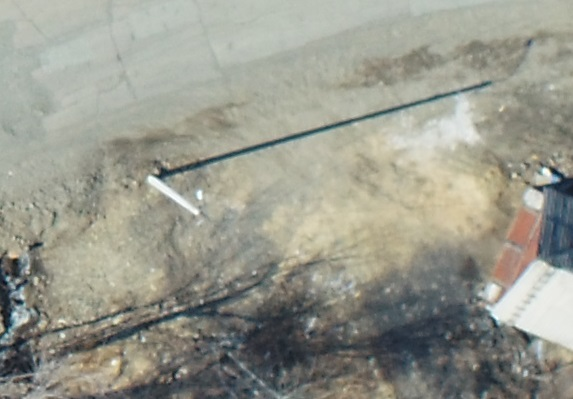opora: (146, 157, 217, 223)
